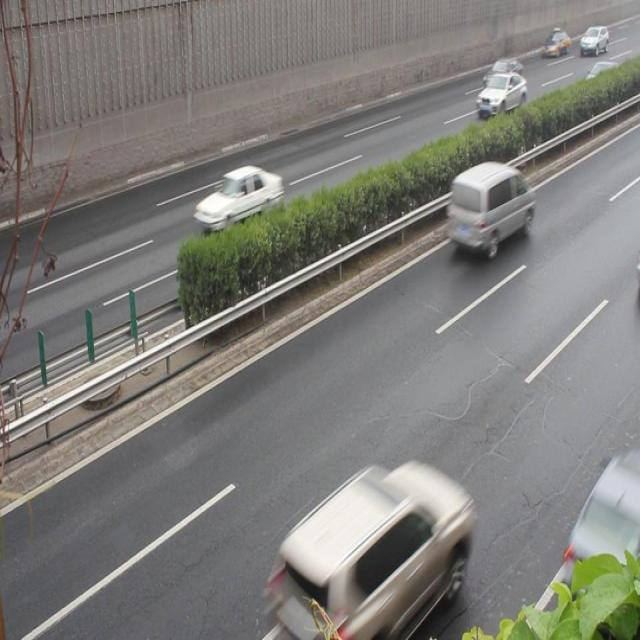car: (267, 458, 467, 640), (194, 165, 282, 232), (473, 72, 526, 116), (482, 58, 522, 88)
truck: (447, 161, 534, 250)
